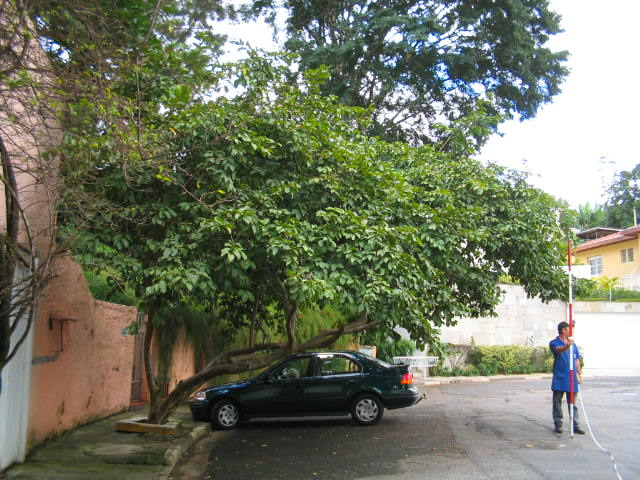crown: (52, 64, 580, 361)
stick: (561, 240, 581, 439)
tree: (51, 63, 580, 425)
